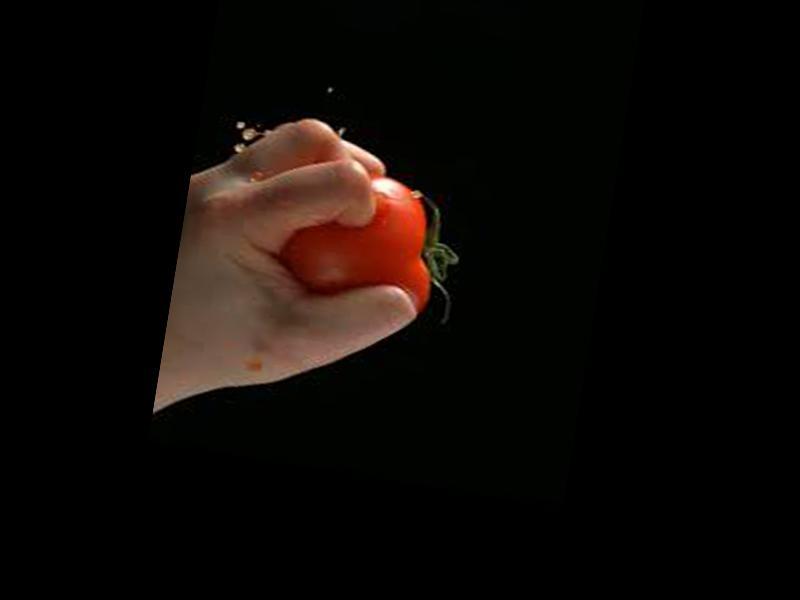Tomato: (275, 163, 446, 315)
